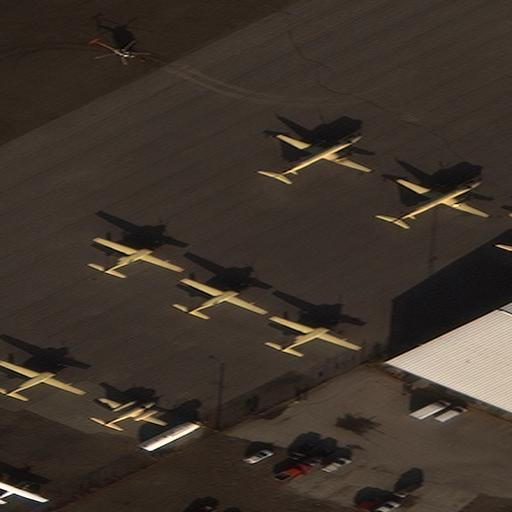Medium Civil Transport: (391, 178, 490, 223), (275, 133, 371, 179), (184, 276, 268, 314), (97, 237, 184, 273), (274, 316, 361, 352), (0, 359, 86, 395)
Small Civil Transport: (101, 396, 168, 425), (0, 478, 49, 502)
